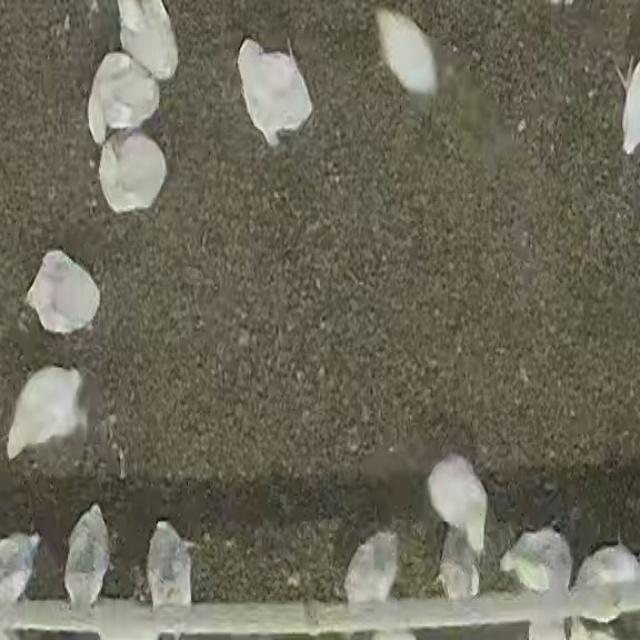chicken: (232, 40, 314, 146), (5, 366, 86, 464), (24, 248, 101, 339), (88, 52, 160, 144), (370, 9, 439, 103), (97, 130, 169, 216), (568, 534, 636, 622), (430, 457, 487, 558), (63, 504, 111, 614), (114, 1, 178, 83), (499, 528, 572, 596), (146, 518, 196, 614), (344, 530, 402, 605), (1, 530, 41, 610), (440, 530, 481, 599), (619, 56, 640, 158)
